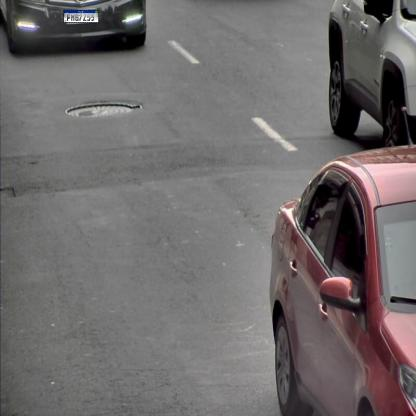PlacaM: (63, 10, 99, 23)
